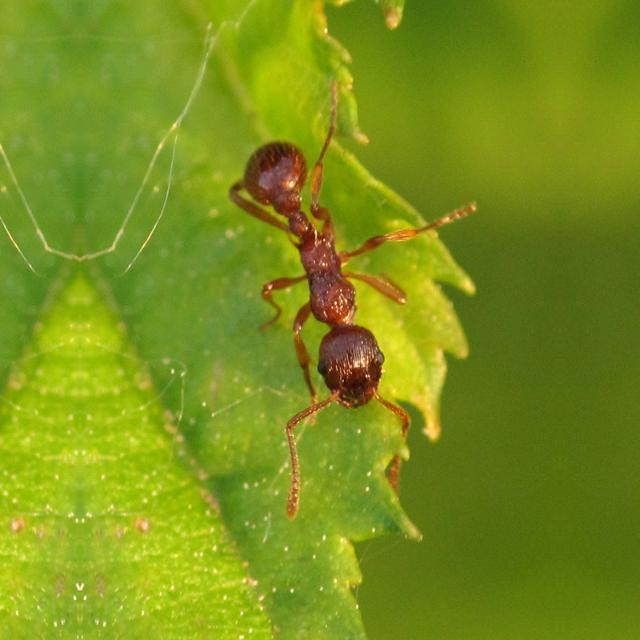Myrmica: (231, 91, 429, 485)
